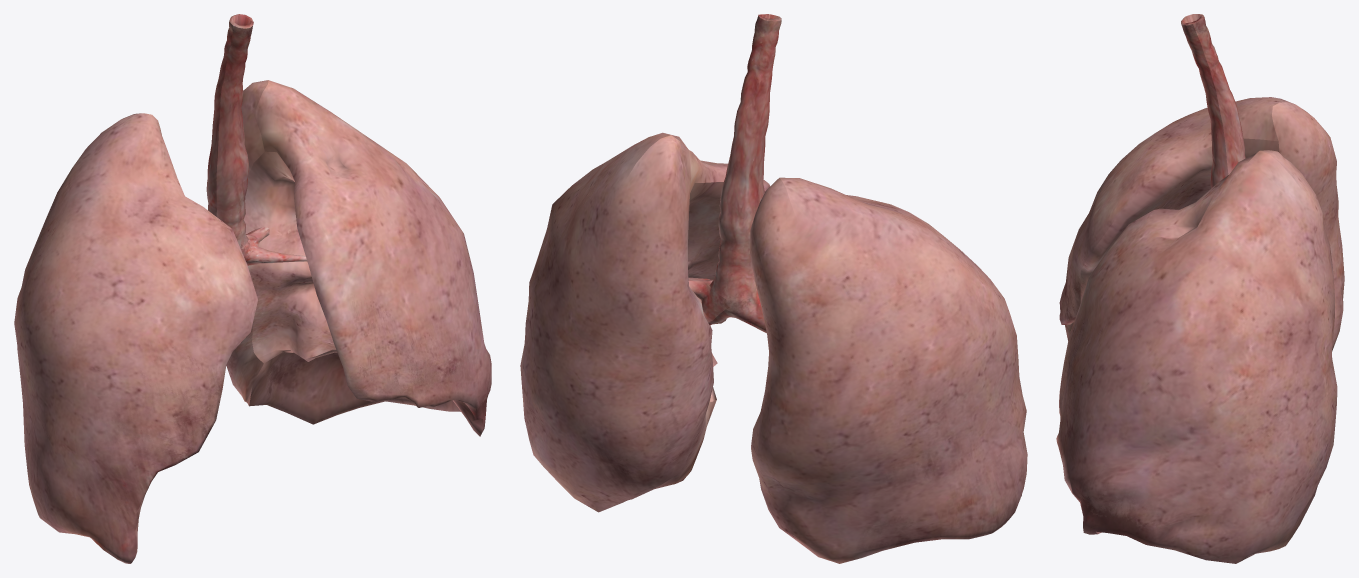
File: Adam_Lungs.dae
3 views of the same model, side by side, from view 1: azimuth 30°, elevation 25°; view 2: azimuth 150°, elevation 25°; view 3: azimuth 270°, elevation 25° (orthographic). The views are drawn at different scales.
Visible parts, largest first — view 1: 5.003; view 2: 5.003; view 3: 5.003.
Part boxes in pixels (<box>): 5.003: <box>14,14,491,563</box>; 5.003: <box>520,14,1027,563</box>; 5.003: <box>1056,14,1344,563</box>.
Bounding box in the file's own units: 9.35 × 5.31 × 9.56.
1 material, 1 textured.
